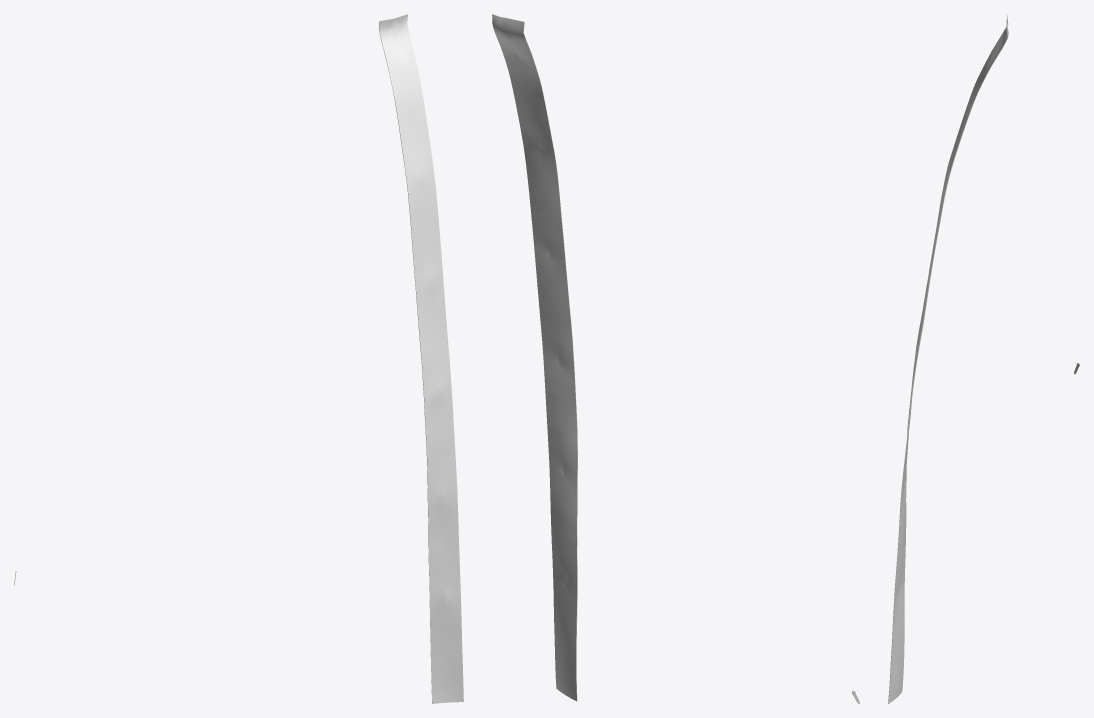
File: front-placket.glb
3 views of the same model, side by side, from view 1: azimuth 30°, elevation 25°; view 2: azimuth 150°, elevation 25°; view 3: azimuth 270°, elevation 25° (orthographic). The views are drawn at different scales.
Visible parts, largest first — view 1: Body_Front_1_Node; view 2: Body_Front_1_Node; view 3: Body_Front_1_Node.
Part boxes in pixels (left/top/right/bottom): Body_Front_1_Node: left=379, top=14, right=463, bottom=703; Body_Front_1_Node: left=492, top=14, right=577, bottom=701; Body_Front_1_Node: left=888, top=14, right=1008, bottom=703.
Bounding box in the file's own units: 0.3878 × 0.6627 × 0.1703.
Materials: 2 (2 with a texture image).
